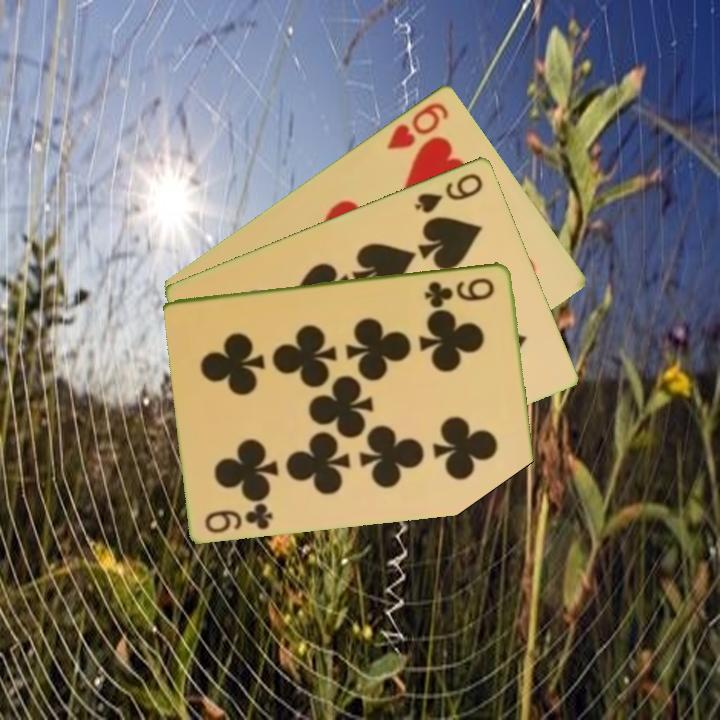6h: (383, 98, 452, 152)
9c: (202, 499, 276, 536), (421, 274, 497, 307)
9s: (411, 169, 486, 216)
